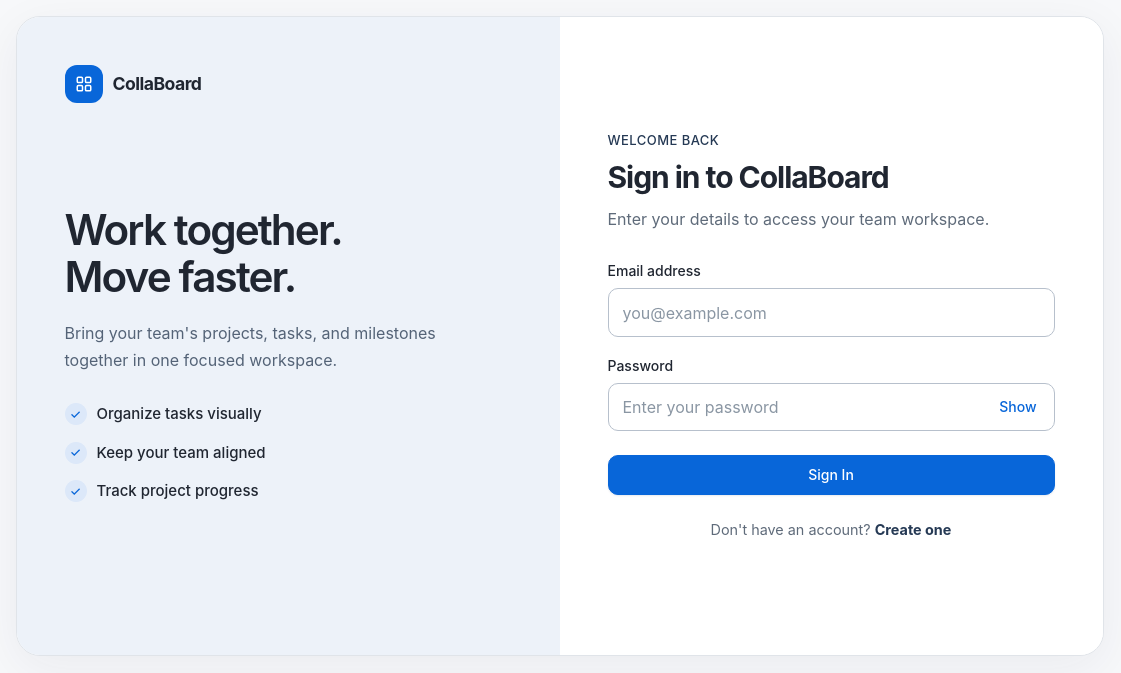
Scenario: Authentication navigation › failed login shows the server message and keeps the user signed out
Step 1. Type "member@example.com" into the field labelled "Email address" → (831, 313), box [608, 288, 1054, 337]
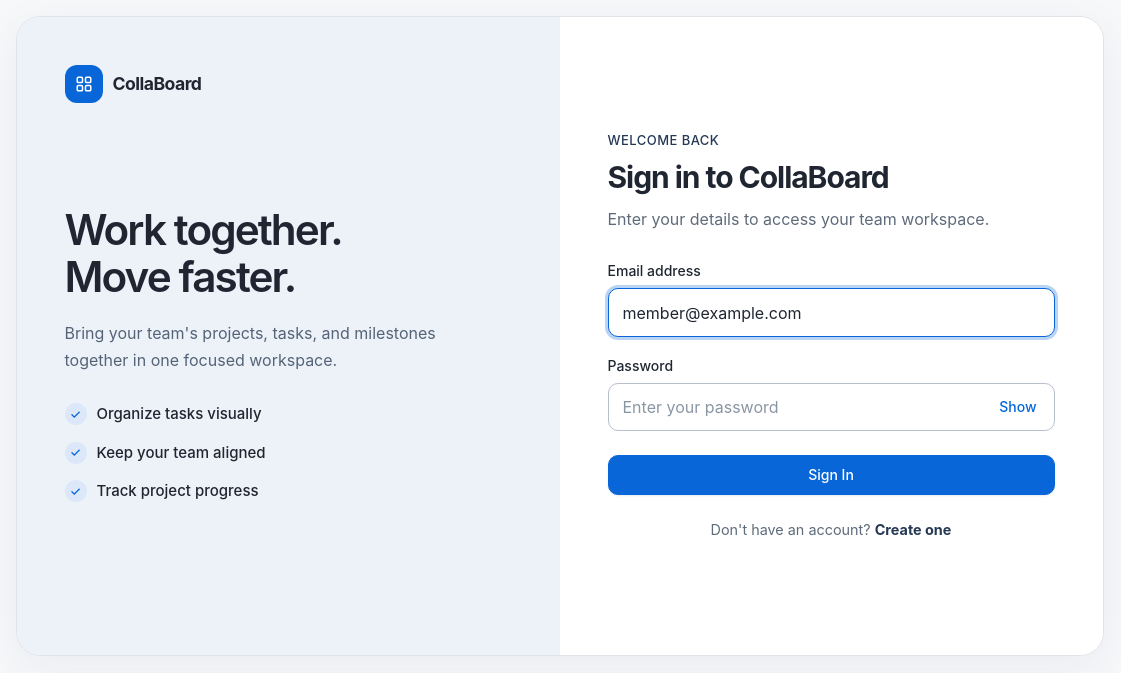
Step 2. Type "test-password" into the password field labelled "Password" → (831, 407), box [608, 383, 1054, 431]
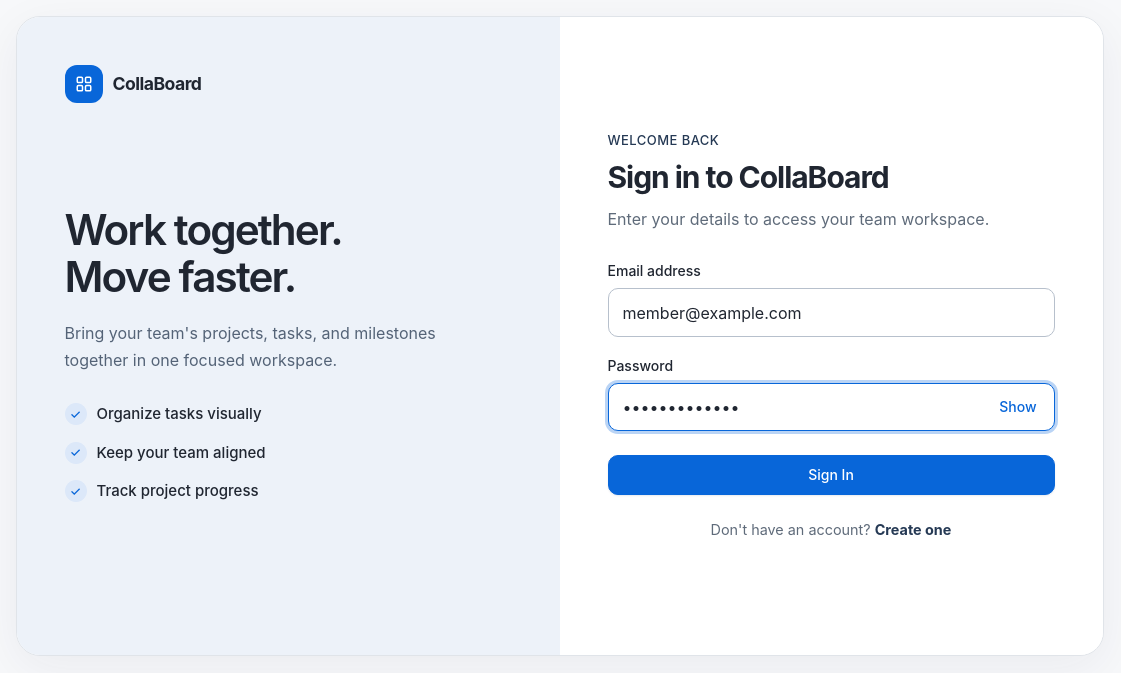
Step 3. Click the button "Sign In" → (831, 475), box [608, 455, 1054, 495]
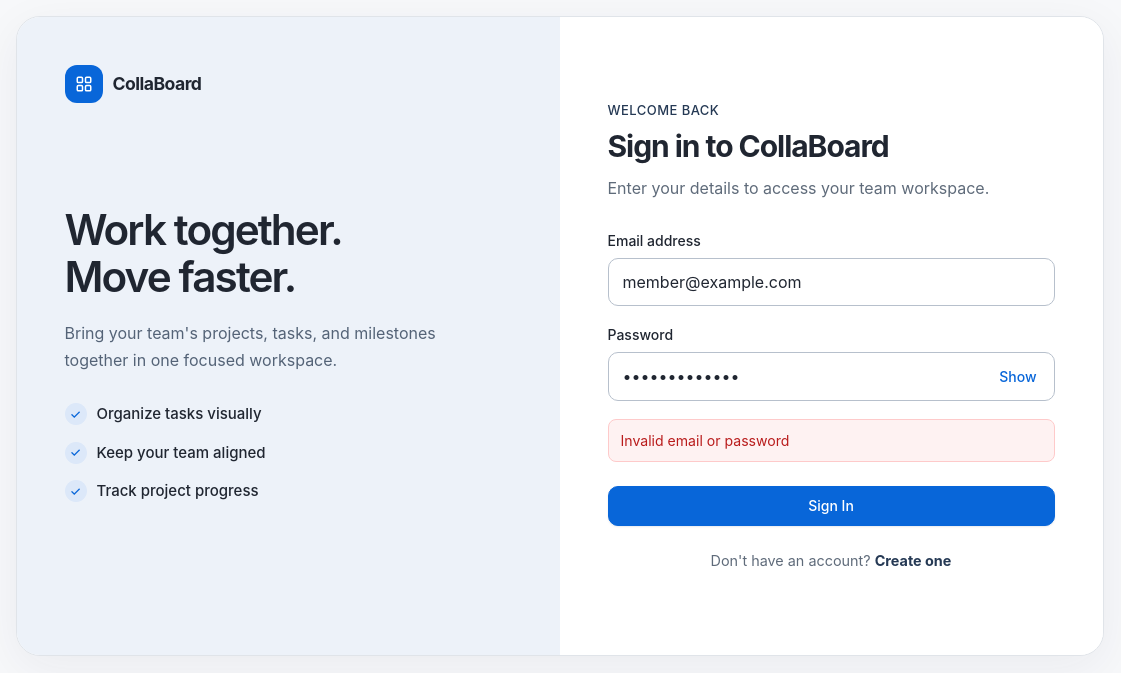
Expected: the message reads "Invalid email or password", [620, 432, 789, 449]
